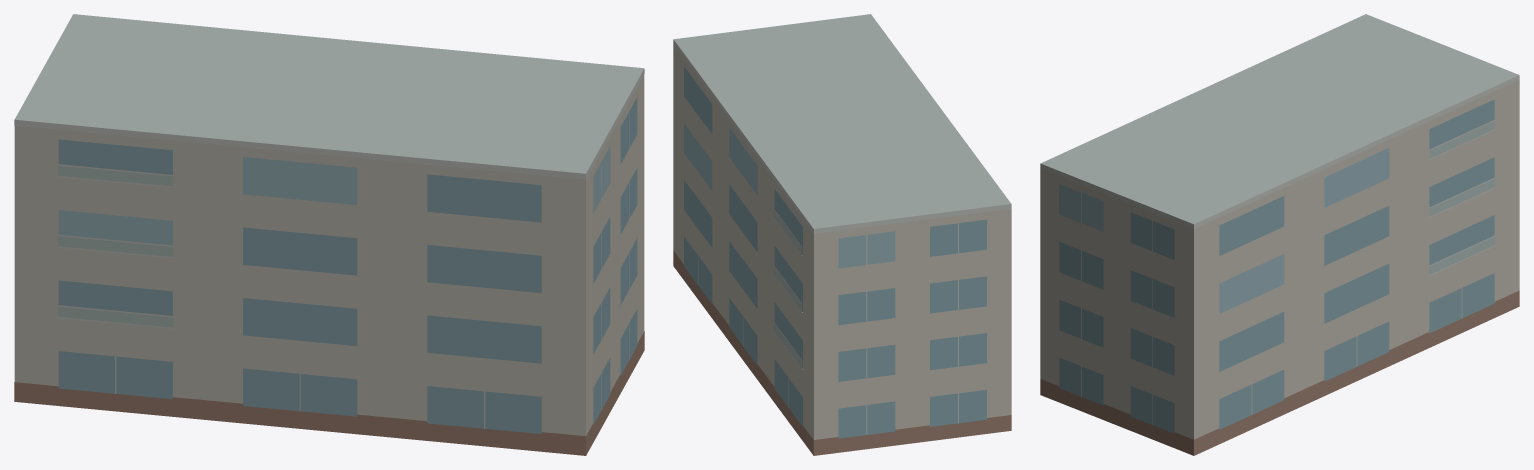
The model's file is survey-upis-32704422.glb.
3 views of the same model, side by side, from view 1: azimuth 30°, elevation 25°; view 2: azimuth 150°, elevation 25°; view 3: azimuth 270°, elevation 25° (orthographic). The views are drawn at different scales.
Visible parts, largest first — view 1: survey-upis-32704422.tmp; view 2: survey-upis-32704422.tmp; view 3: survey-upis-32704422.tmp.
Boxes of the visible parts, x1=… form: survey-upis-32704422.tmp: x1=14, y1=14, x2=644, y2=455; survey-upis-32704422.tmp: x1=673, y1=14, x2=1011, y2=455; survey-upis-32704422.tmp: x1=1040, y1=14, x2=1519, y2=455.
Bounding box in the file's own units: 22.8 × 11.7 × 21.95.
